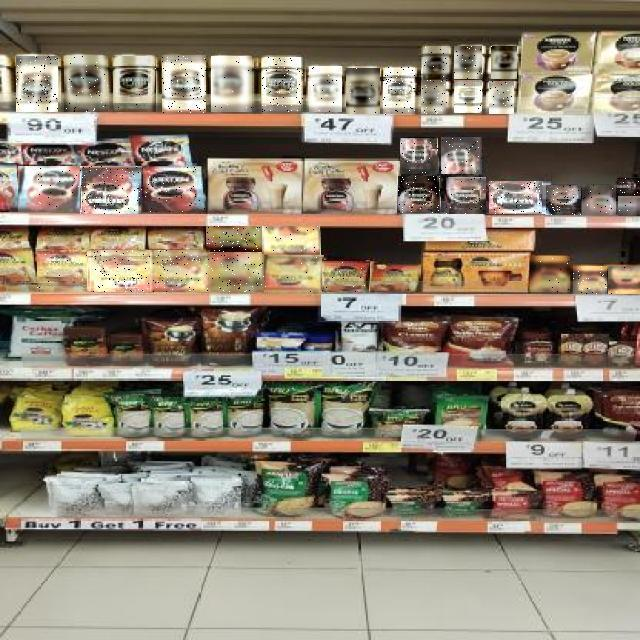Coffee: (80, 166, 142, 214), (18, 166, 82, 212), (142, 167, 206, 213), (90, 250, 152, 292), (162, 56, 206, 114), (150, 250, 210, 292), (64, 56, 108, 112), (113, 56, 156, 112), (38, 251, 94, 293), (16, 56, 58, 112), (212, 56, 254, 112), (262, 57, 303, 114), (264, 256, 324, 294), (208, 254, 266, 292), (490, 181, 546, 214), (263, 227, 321, 257), (346, 68, 380, 114), (398, 176, 440, 213), (442, 137, 484, 174), (322, 260, 370, 292), (383, 67, 415, 115), (309, 66, 342, 112), (446, 177, 486, 214), (206, 226, 262, 252), (530, 257, 570, 293), (400, 138, 438, 174), (545, 185, 581, 215), (582, 185, 616, 215), (573, 266, 607, 294), (455, 80, 483, 114), (455, 46, 483, 79), (608, 266, 640, 294), (422, 81, 448, 115), (423, 46, 449, 79), (491, 46, 517, 79), (489, 81, 514, 114), (618, 196, 640, 216), (617, 178, 640, 196)
